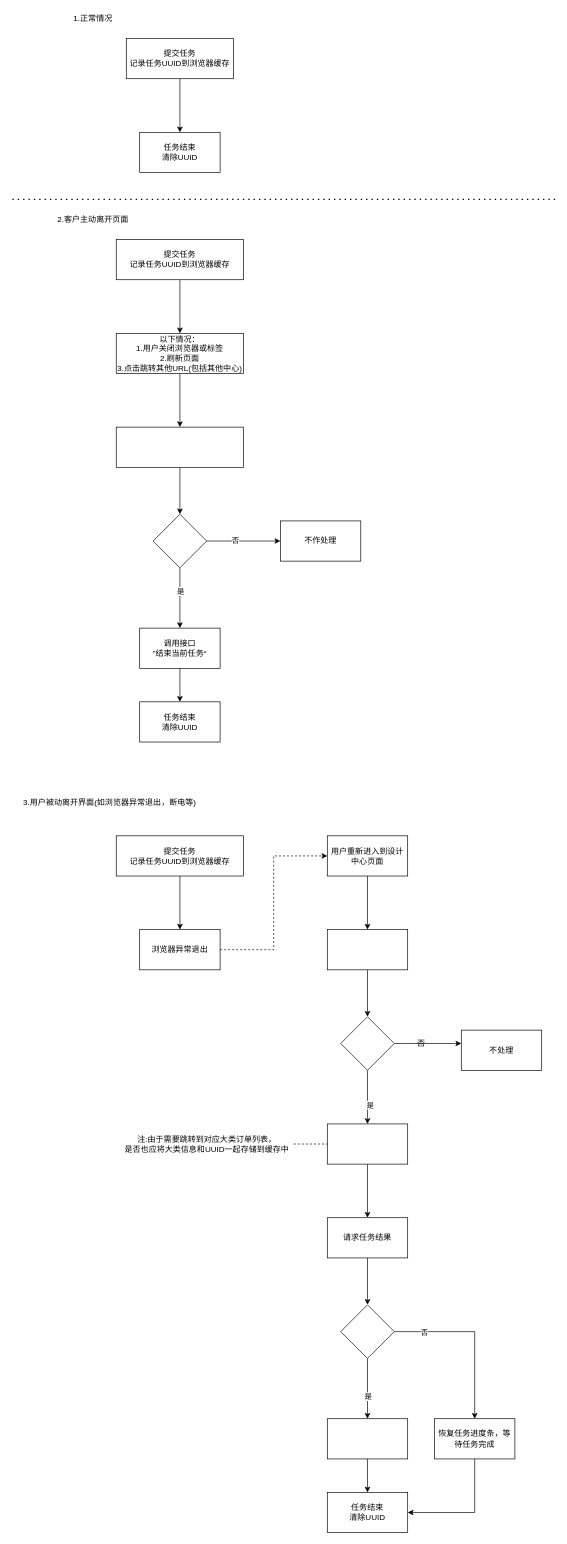
This 567x1544 diagram has some shape labels left out. The centre of each missing label's shape, as x and y in pixels:
任务是否已结束？: (367,1331)
弹窗告警: (180,446)
弹窗显示任务结果详情: (367,1438)
打开对应大类的订单列表页面: (367,1143)
是否存在UUID?: (367,1043)
检查浏览器缓存: (367,949)
用户是否确认告警？: (179,541)
